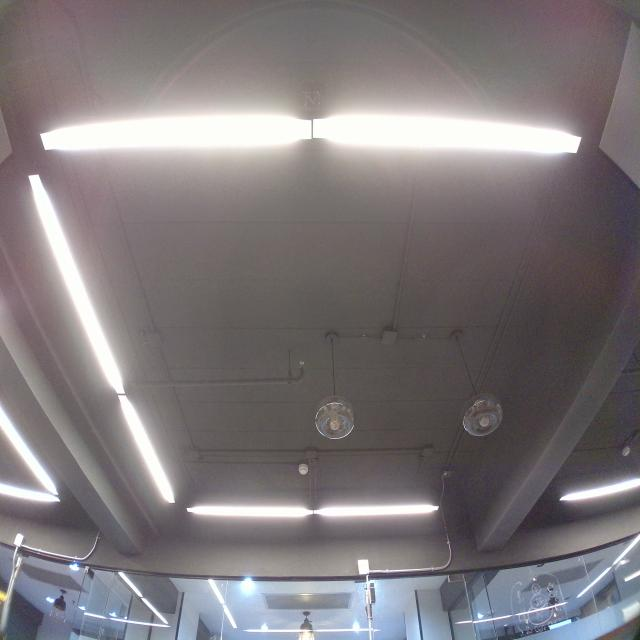lamp2_on: (17, 171, 185, 514), (32, 95, 592, 170), (185, 492, 450, 528)
